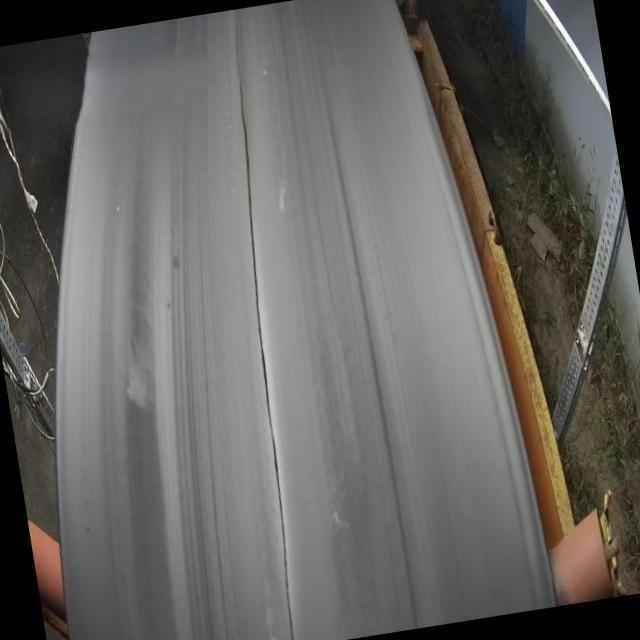Tear: (226, 52, 301, 640)
